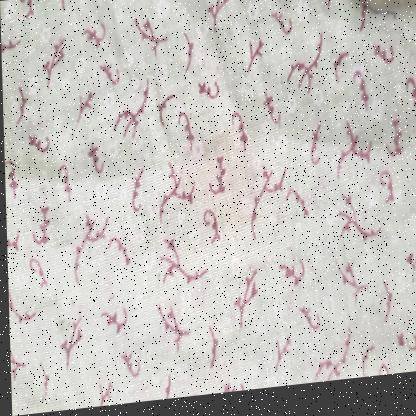spot: (168, 126, 261, 240)
